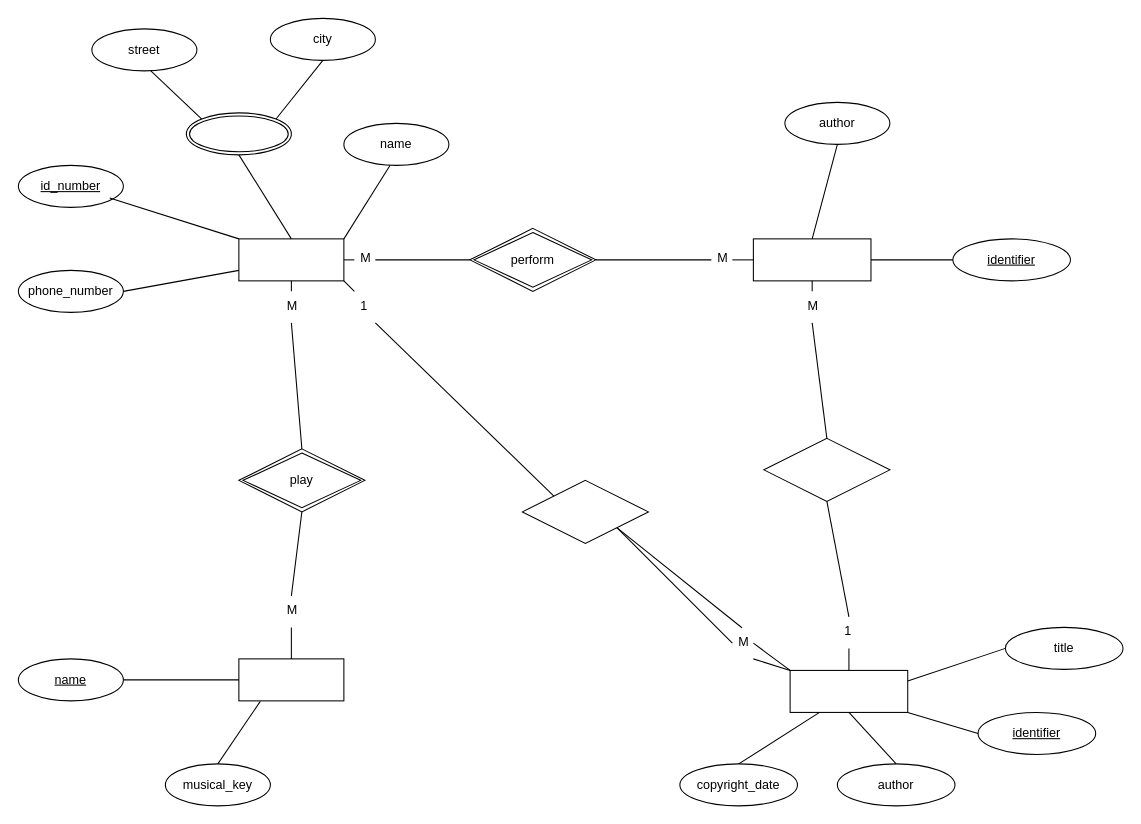
This 1141x824 diagram has some shape labels left out. The box of each missing label's shape, as (x1, y1, x2, y2) in pixels:
address: (185, 112, 291, 155)
albums: (789, 669, 908, 712)
has: (763, 437, 890, 501)
instruments: (238, 658, 344, 701)
musicians: (238, 238, 344, 281)
produce: (521, 479, 648, 543)
songs: (752, 238, 871, 281)
